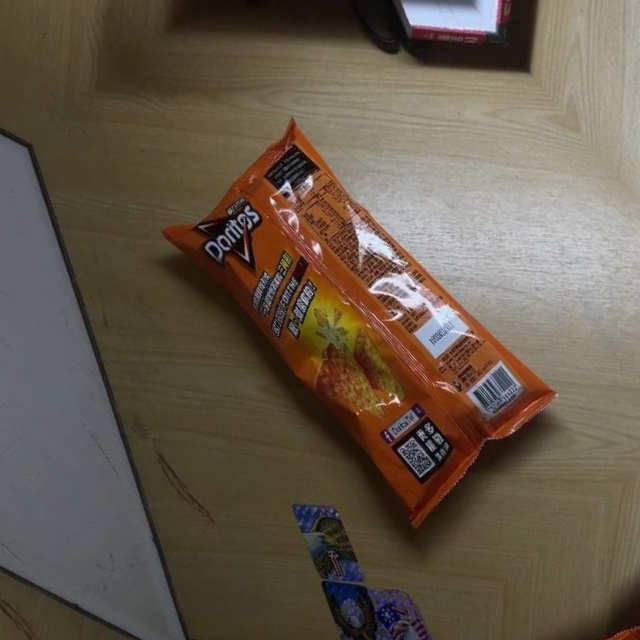Doritos: (153, 97, 566, 535)
